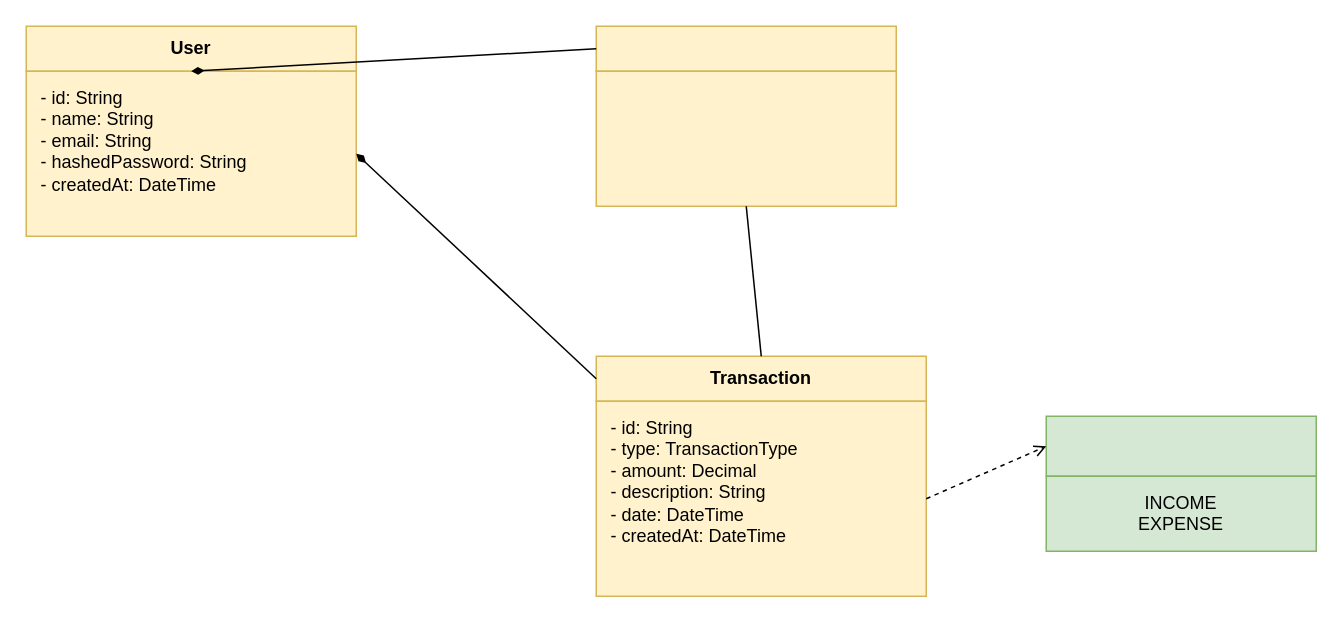
The diagram is 1343 pixels wide and 623 high, and some of its shapes have lost their labels. Each missing label, with the centre of its shape:
"- id: String - name: String - color: String - createdAt: DateTime" goes at (x=745, y=138).
"Category" goes at (x=745, y=48).
"«enumeration» TransactionType" goes at (x=1180, y=445).
